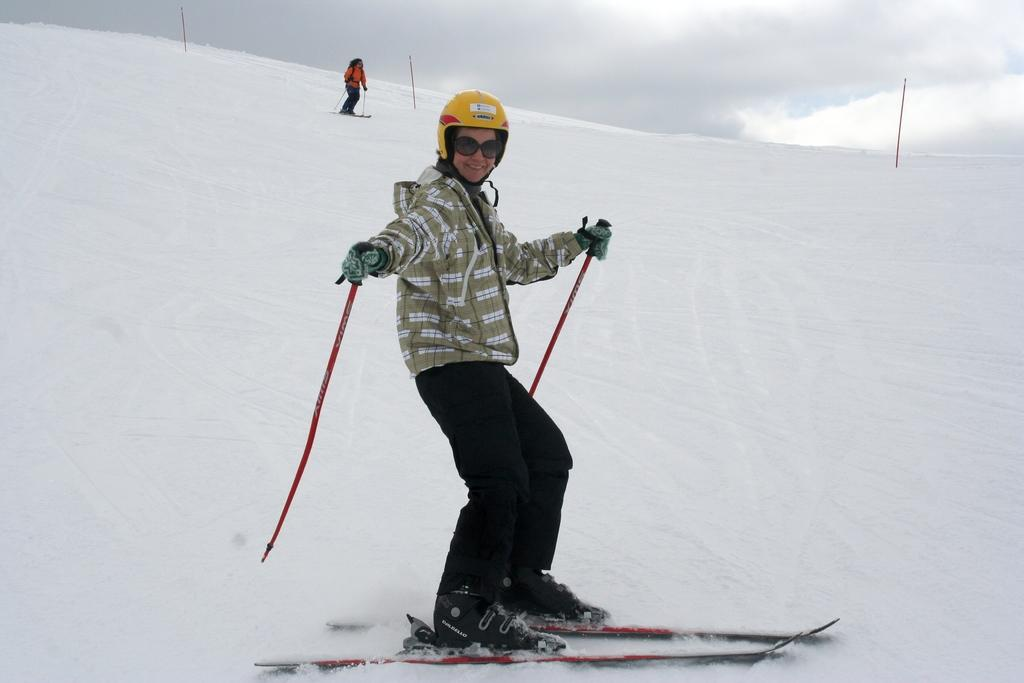helmet: (437, 89, 510, 181)
